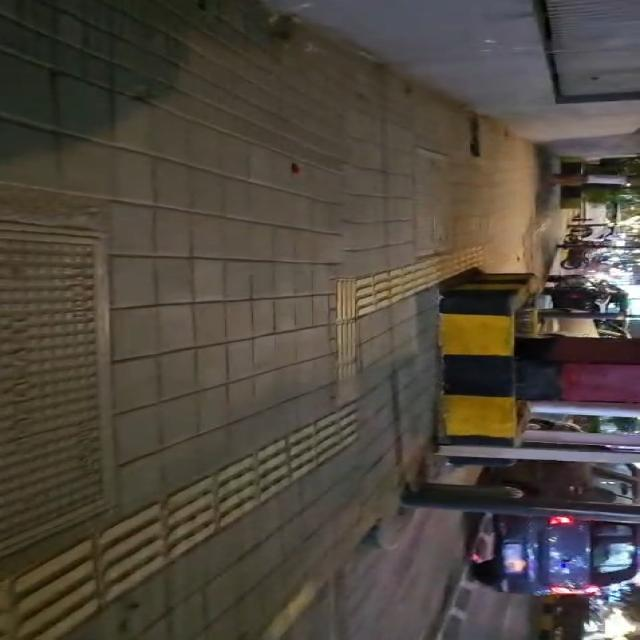obstacle: (402, 484, 639, 524), (524, 430, 639, 451), (529, 401, 639, 417), (539, 308, 623, 319)
